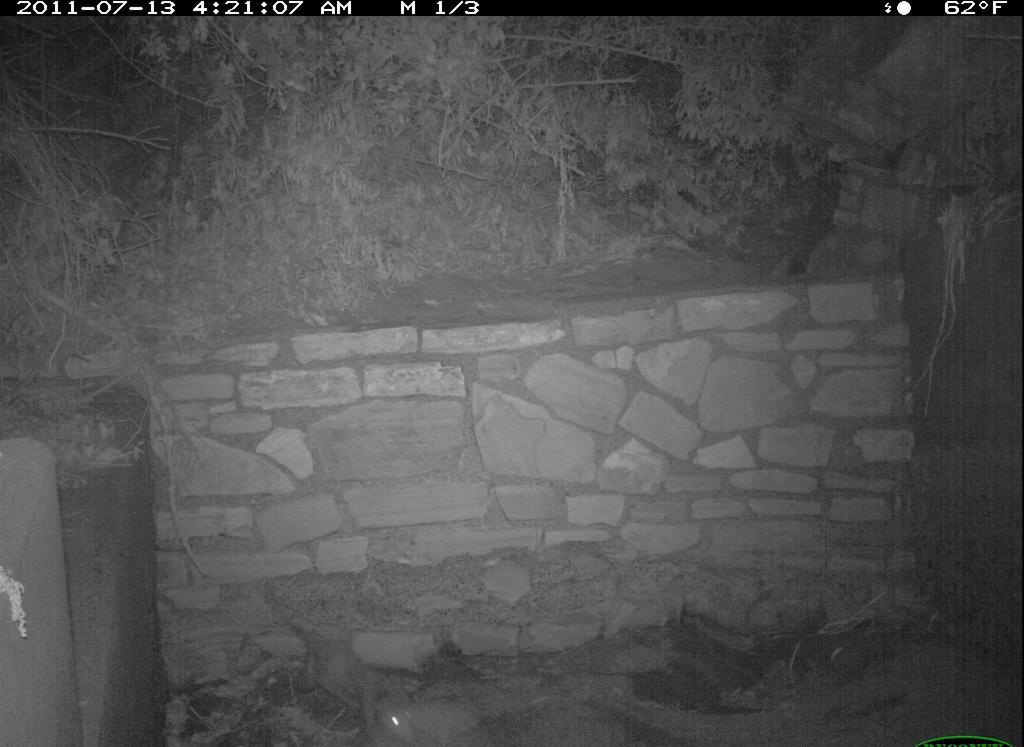opossum: (338, 670, 505, 747)
